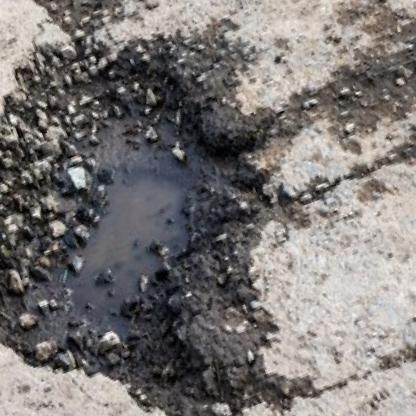pothole: (0, 0, 296, 416)
